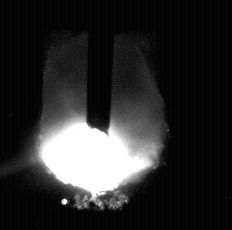arame: (87, 0, 113, 136)
poca: (35, 0, 164, 230)
